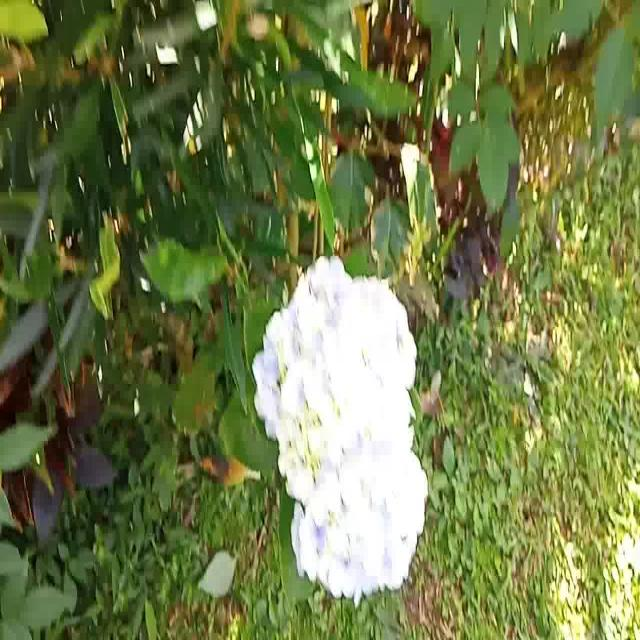Flower: (251, 247, 429, 606)
